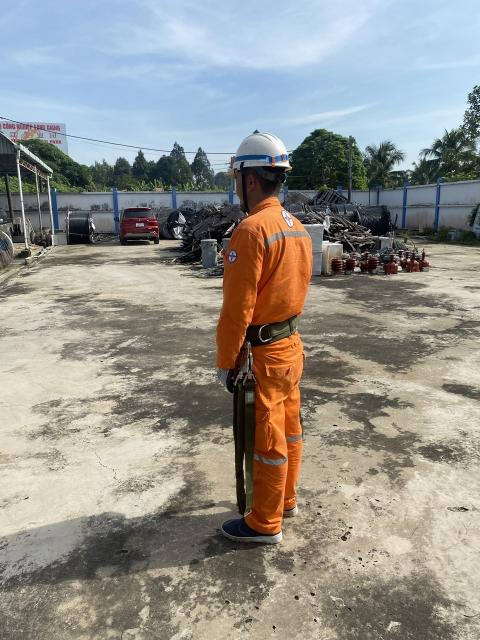gloves: (201, 356, 242, 397)
harness: (239, 304, 322, 360)
helmet: (218, 125, 301, 180)
shoes: (213, 513, 285, 562)
